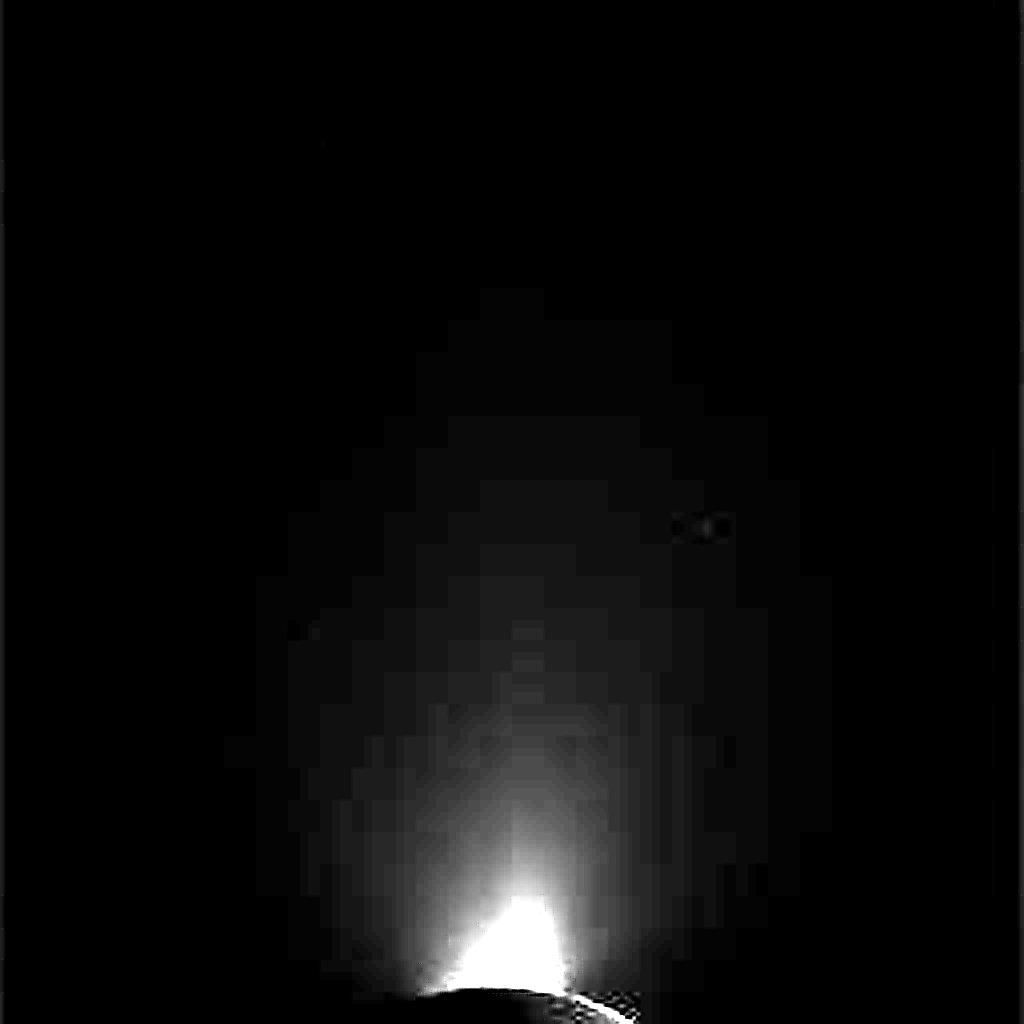plumes: (442, 894, 565, 990)
